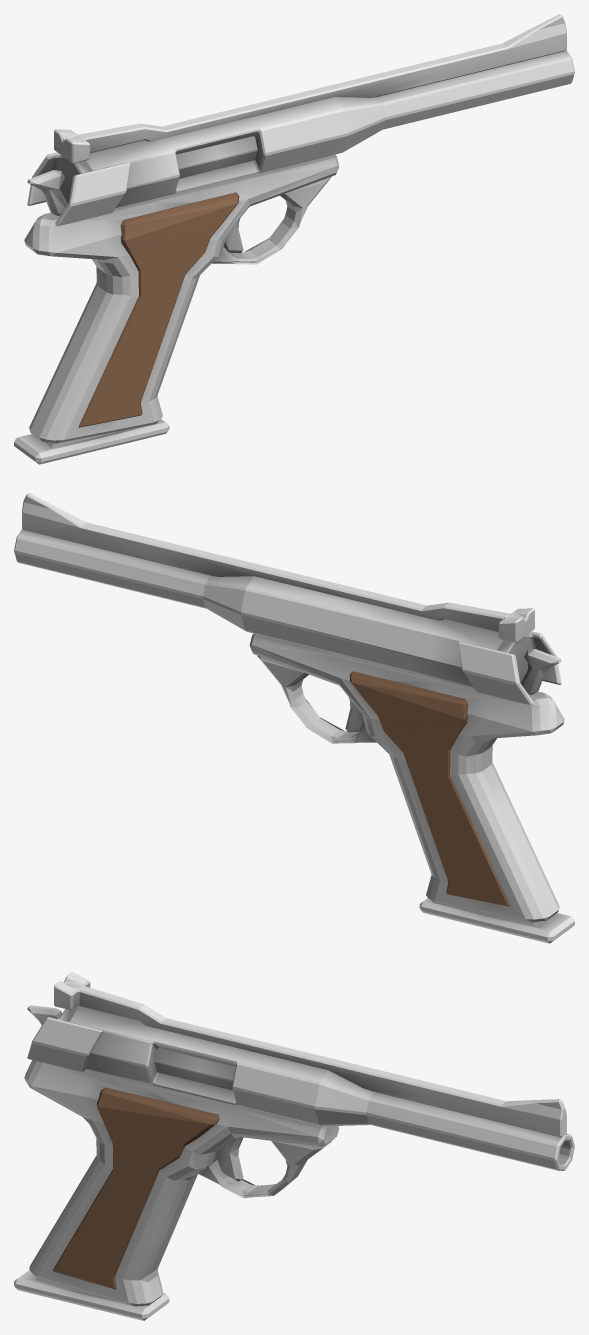
File: x-p6-automag44.glb
3 views of the same model, one above another, from view 1: azimuth 30°, elevation 25°; view 2: azimuth 150°, elevation 25°; view 3: azimuth 330°, elevation 25° (orthographic).
Visible parts, largest first — view 1: body (×3), magazine; view 2: body (×3), magazine; view 3: body (×3), magazine.
Part boxes in pixels (bbox=[...]): body (×3): bbox=[24, 14, 574, 443]; magazine: bbox=[14, 419, 169, 464]; body (×3): bbox=[14, 493, 564, 922]; magazine: bbox=[419, 898, 574, 943]; body (×3): bbox=[24, 972, 574, 1306]; magazine: bbox=[14, 1270, 169, 1320].
Size of the model in its own units: 0.253 by 0.1396 by 0.0319.
